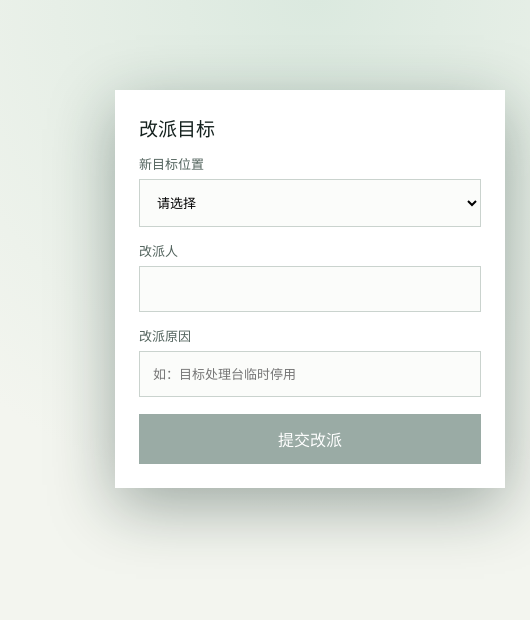
Test case: reroute form › keeps every input when the network drops mid-submission
Select "交接窗" in the dropdown labelled "新目标位置". click: (310, 203)
box: [139, 179, 481, 227]
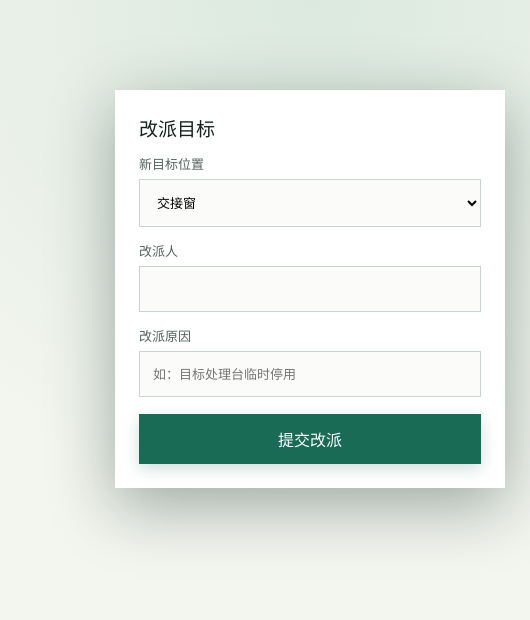
Type "alice" into the field labelled "改派人". click: (310, 289)
box: [139, 266, 481, 312]
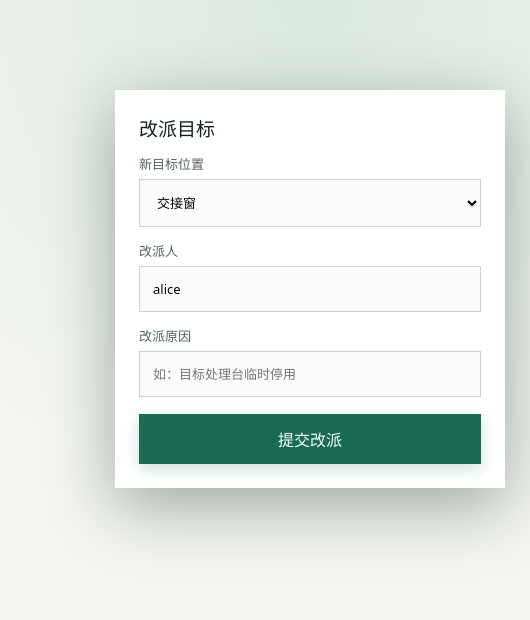
Type "处理台临时停用" into the field labelled "改派原因". click: (310, 374)
box: [139, 351, 481, 397]
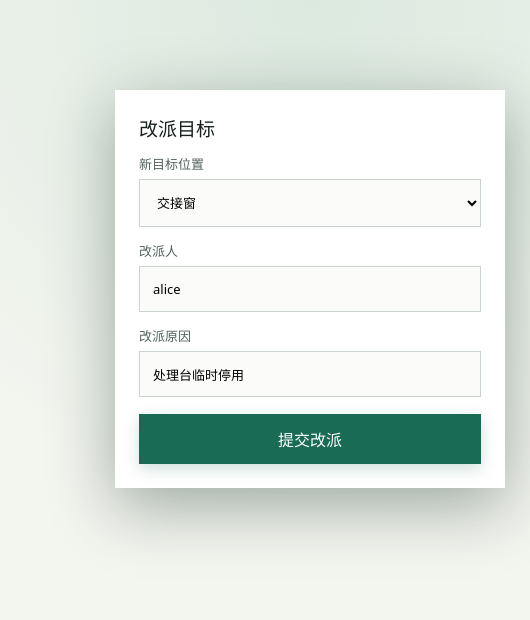
Click the button "提交改派". click: click(310, 439)
box: [139, 414, 481, 464]
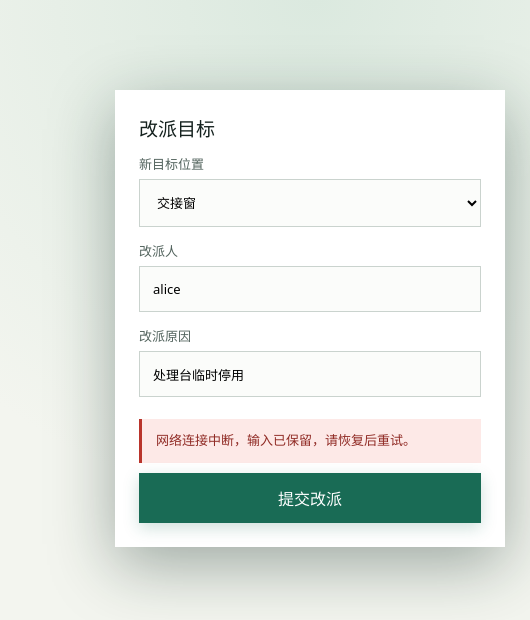
Now the message shows "输入已保留", box [156, 431, 416, 449]
